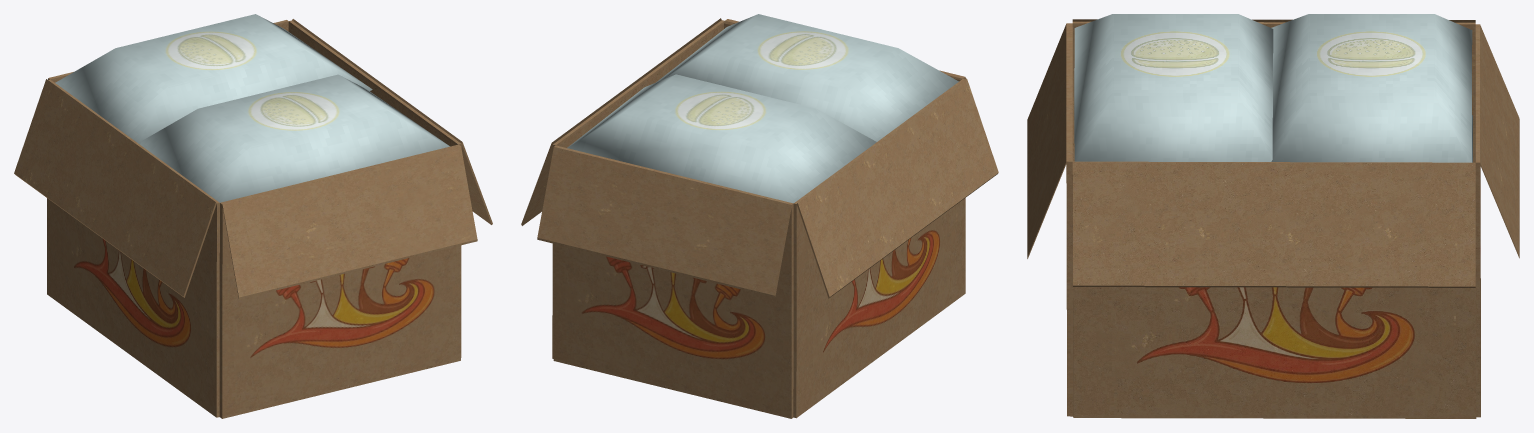
Rendered from BunBox.fbx.
3 renders of one model, left to right at view 1: azimuth 30°, elevation 25°; view 2: azimuth 150°, elevation 25°; view 3: azimuth 270°, elevation 25°, orthographic. The views are drawn at different scales.
Visible parts, largest first — view 1: Box.007; view 2: Box.007; view 3: Box.007.
Boxes of the visible parts, box(x1,y1,x2,y2) form: Box.007: box(14, 14, 492, 418); Box.007: box(521, 14, 998, 418); Box.007: box(1027, 14, 1519, 418).
Bounding box in the file's own units: 86.64 × 65.98 × 101.
